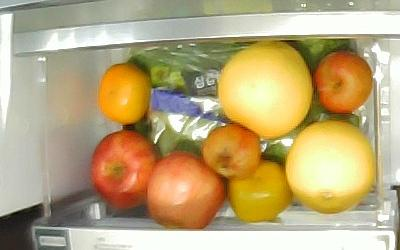apple: (285, 121, 375, 214), (90, 131, 160, 205)
grapefruit: (218, 40, 312, 139)
persimmon: (227, 159, 291, 221), (97, 62, 150, 124)
prune: (146, 150, 226, 228), (313, 50, 373, 113), (201, 124, 262, 178)
